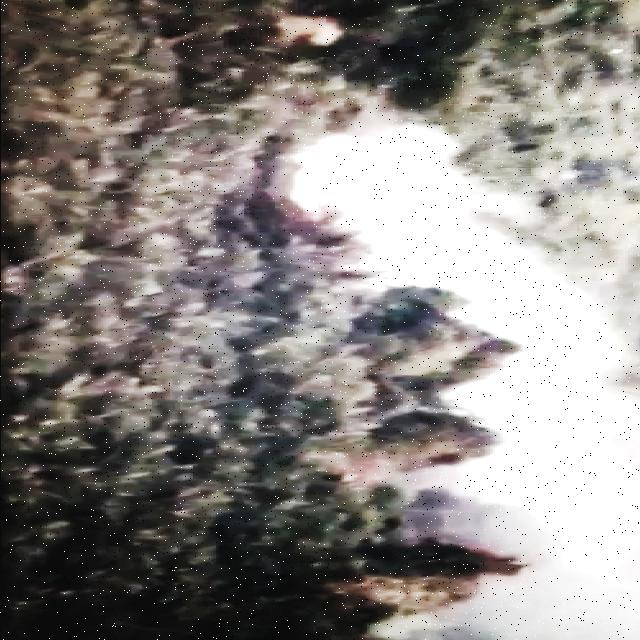asap: (262, 117, 636, 640)
